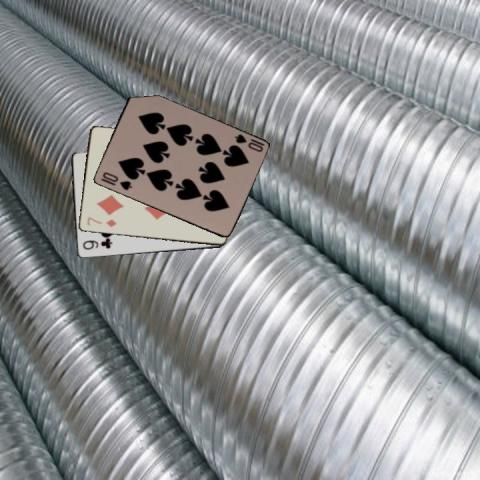10s: (99, 169, 133, 192), (231, 132, 266, 154)
7d: (84, 214, 118, 229)
9c: (80, 238, 114, 251)
